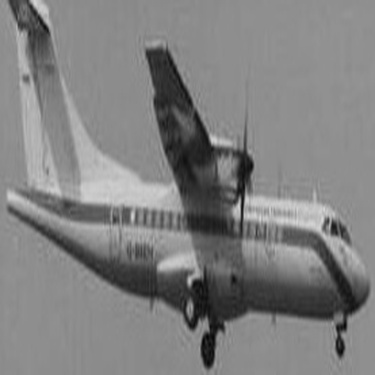airplane: (1, 4, 361, 345)
